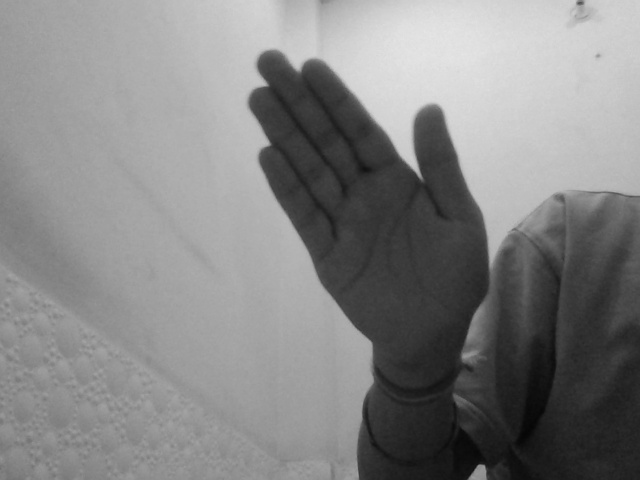Hello: (246, 44, 494, 373)
